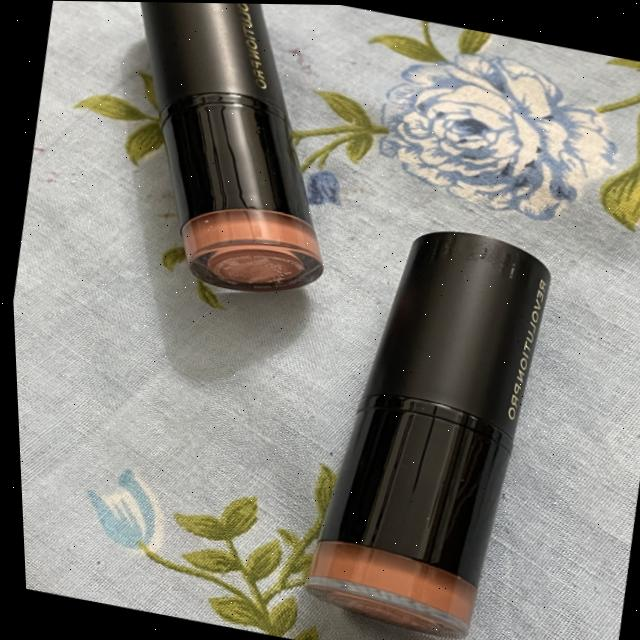lip stick: (267, 189, 587, 640), (61, 1, 398, 312)
